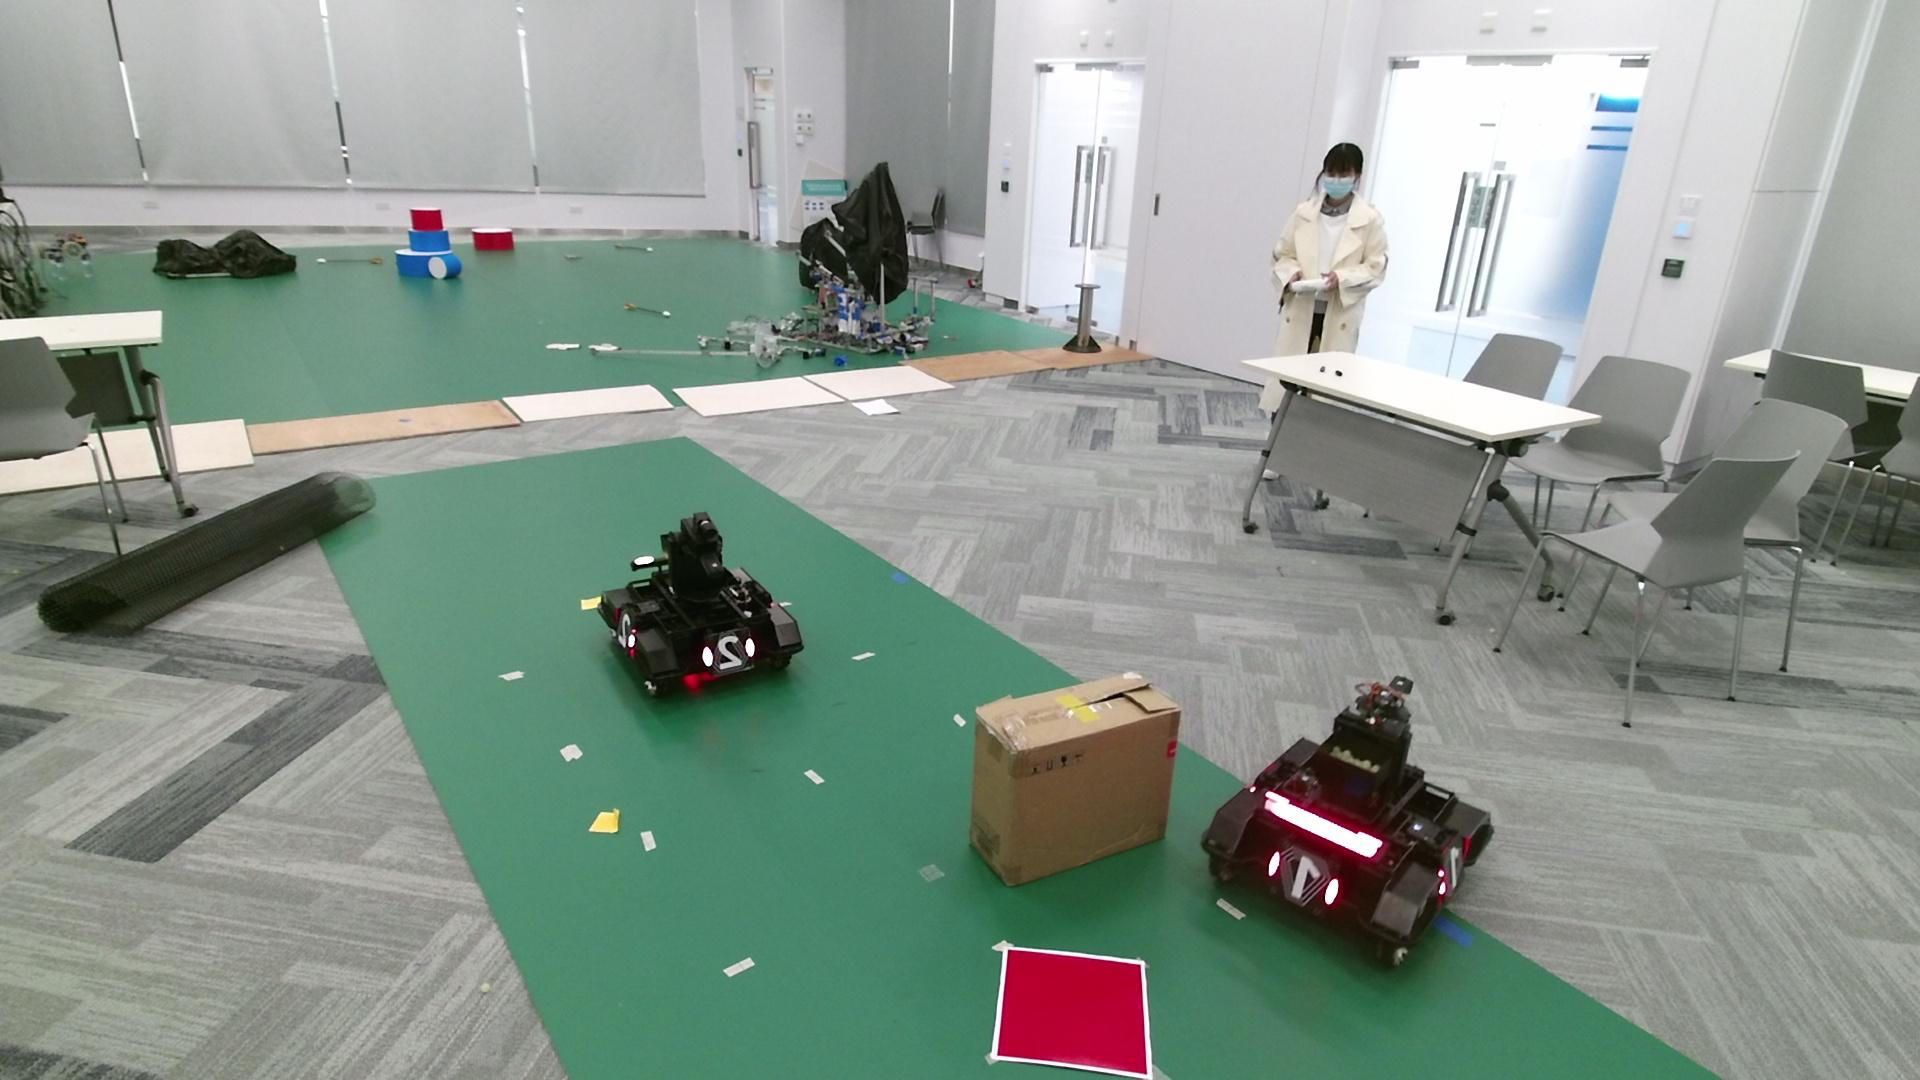robot: (1197, 674, 1494, 971), (597, 509, 803, 698)
